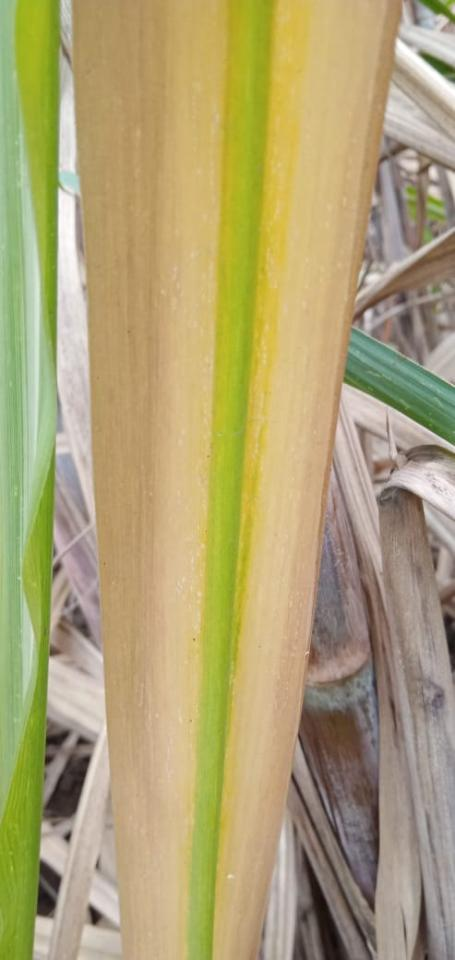Yellow: (212, 1, 402, 959), (71, 0, 230, 959)
